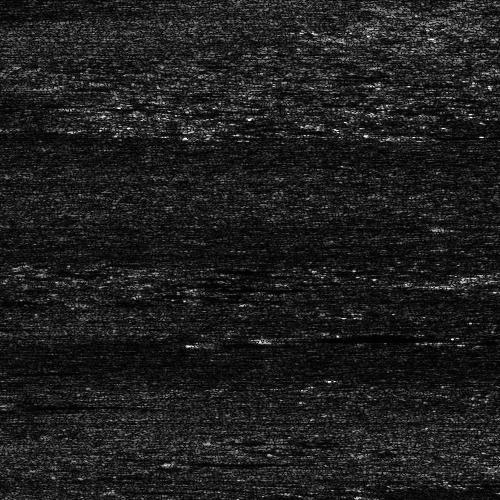object: (217, 332, 322, 343), (434, 279, 497, 290), (108, 278, 171, 287), (146, 459, 199, 464), (174, 340, 215, 345), (0, 401, 25, 406)
shadow: (0, 369, 375, 374), (270, 332, 397, 343), (139, 278, 220, 287), (0, 401, 111, 406), (173, 459, 256, 464), (195, 340, 277, 345), (465, 279, 500, 290)
